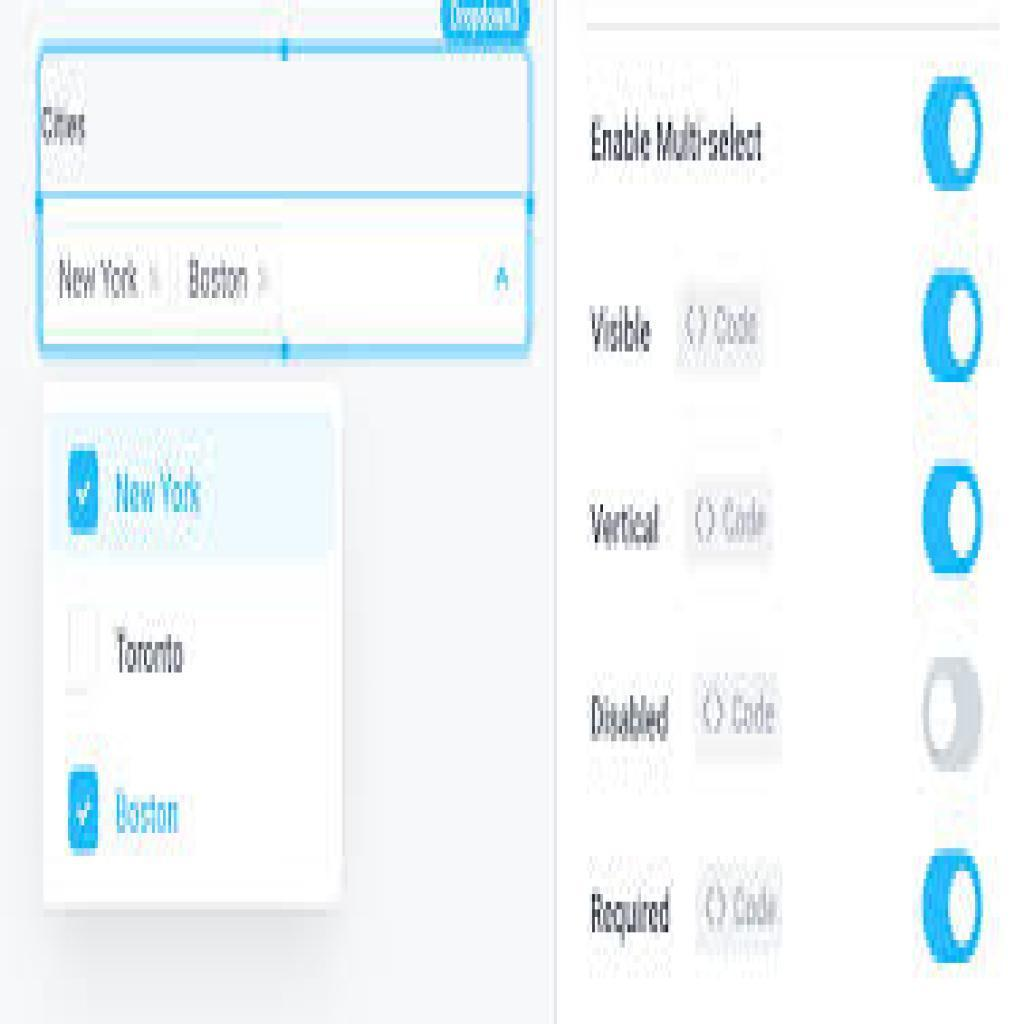checkbox: (65, 596, 107, 717), (66, 446, 104, 539), (68, 764, 101, 858)
dropdown: (38, 192, 534, 356)
switch: (922, 75, 984, 195), (920, 268, 984, 384), (921, 850, 983, 966), (926, 656, 985, 773), (923, 468, 983, 576)
